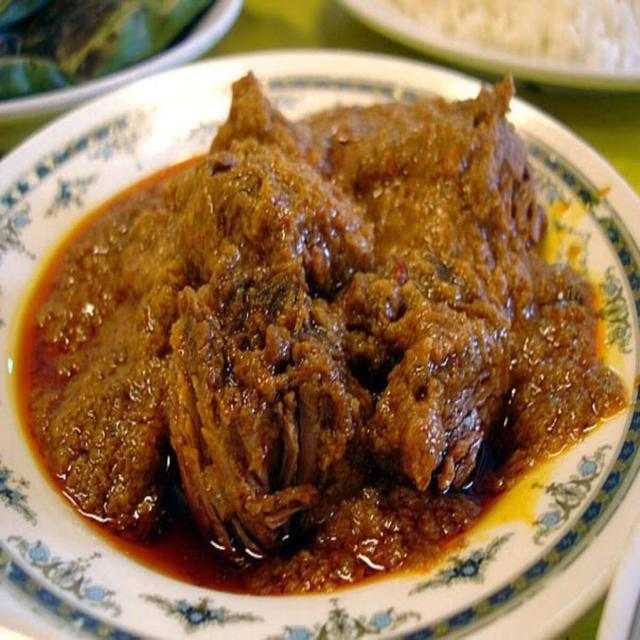Rendang: (45, 84, 596, 535)
